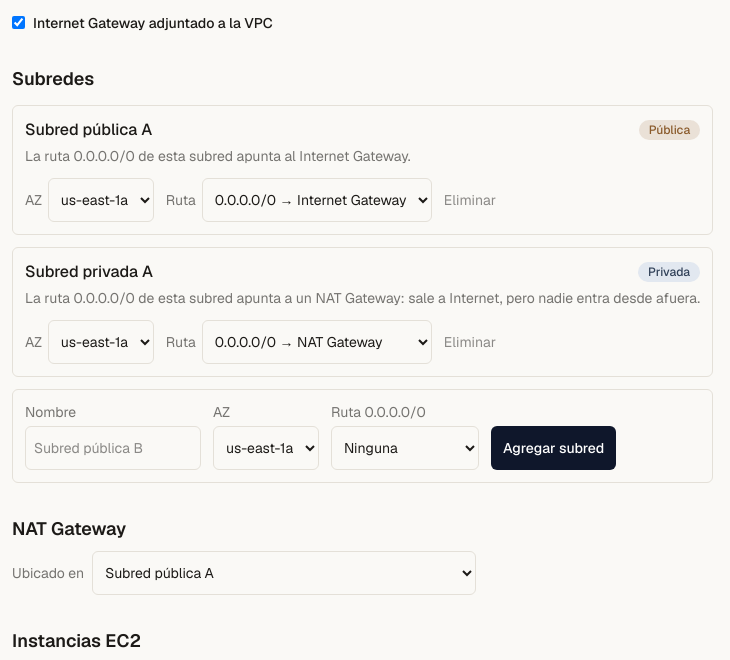
Test: VpcBuilder › adding a subnet shows it in the list
(page scrolled)
Type "Subred de pruebas" into the field with placeholder "Subred pública B".
click(113, 448); type("Subred de pruebas")  # box [25,426,201,470]
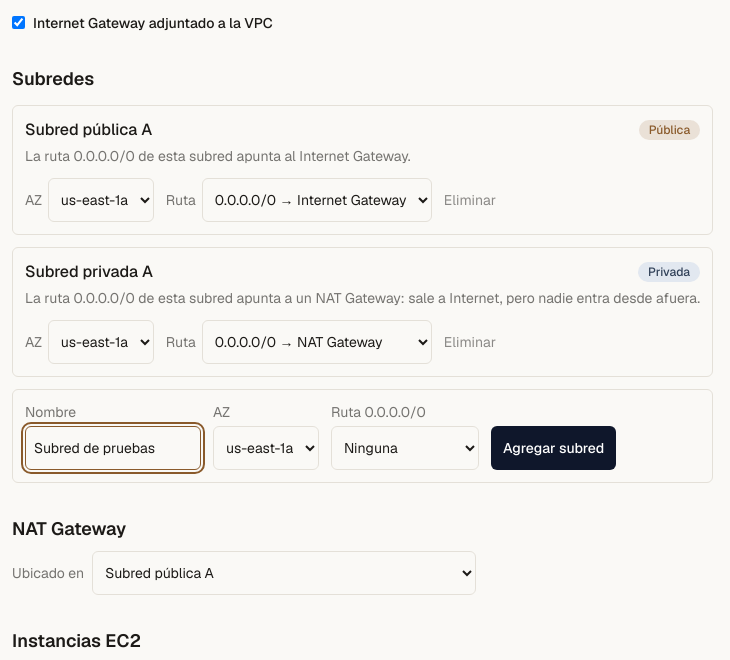
Click the button "Agregar subred".
click(554, 448)  # box [491,426,616,470]
(page scrolled)
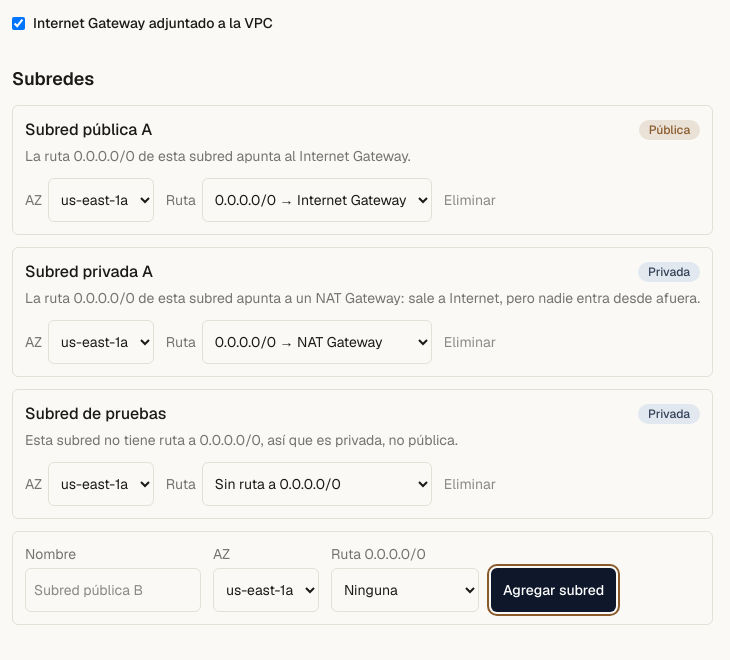
expect the list item "Subred de pruebas" is shown: met, box [25,403,166,424]
